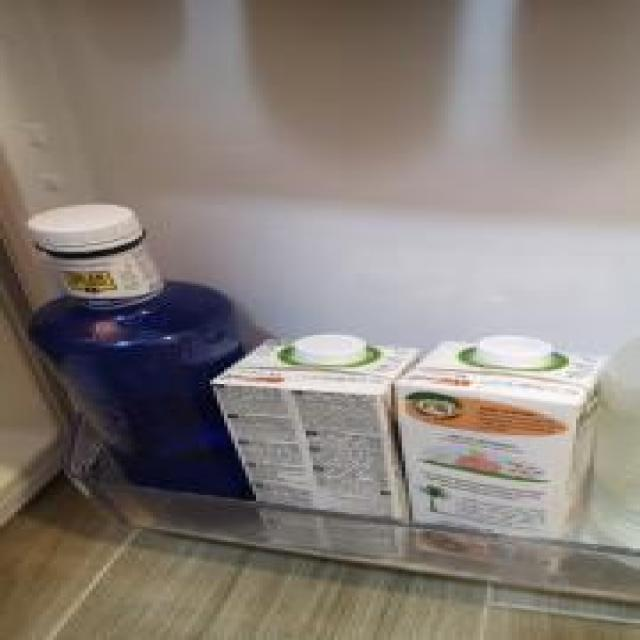milk: (382, 334, 628, 584), (201, 333, 432, 562)
